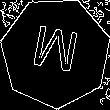M_S: (28, 24, 82, 82)
